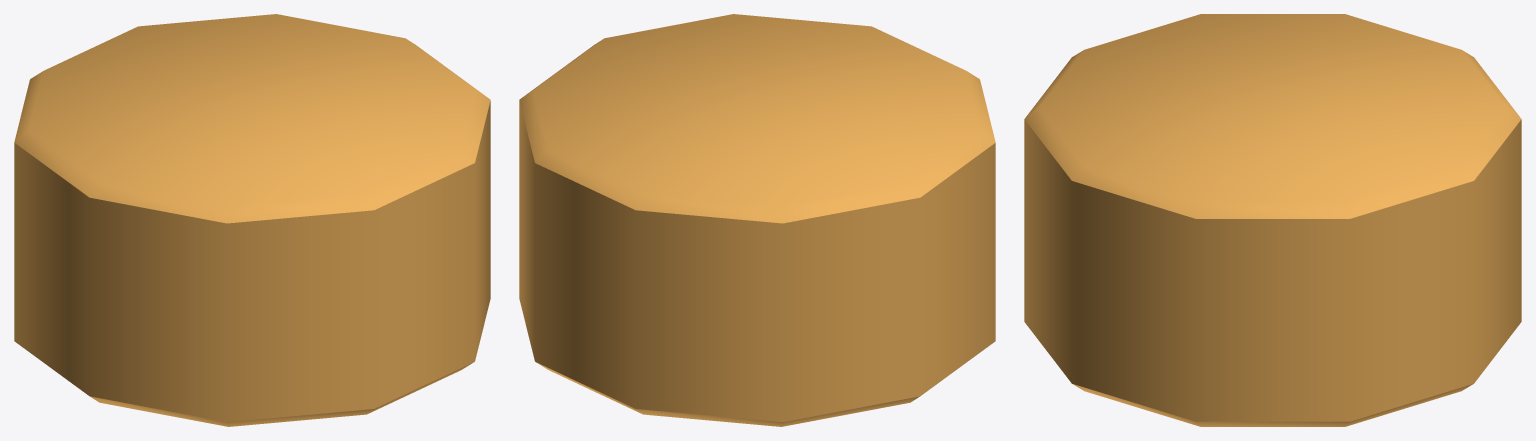
The picture shows the model from 3 angles, left to right: view 1: azimuth 30°, elevation 25°; view 2: azimuth 150°, elevation 25°; view 3: azimuth 270°, elevation 25°; orthographic projection. The views are drawn at different scales.
Parts seen in each view (by area): view 1: Cylinder_06; view 2: Cylinder_06; view 3: Cylinder_06.
Part boxes in pixels (x1,y1,x2,y2): Cylinder_06: (14,14,490,426); Cylinder_06: (519,14,995,426); Cylinder_06: (1024,14,1521,426).
Size of the model in its own units: 304 by 160 by 320.
